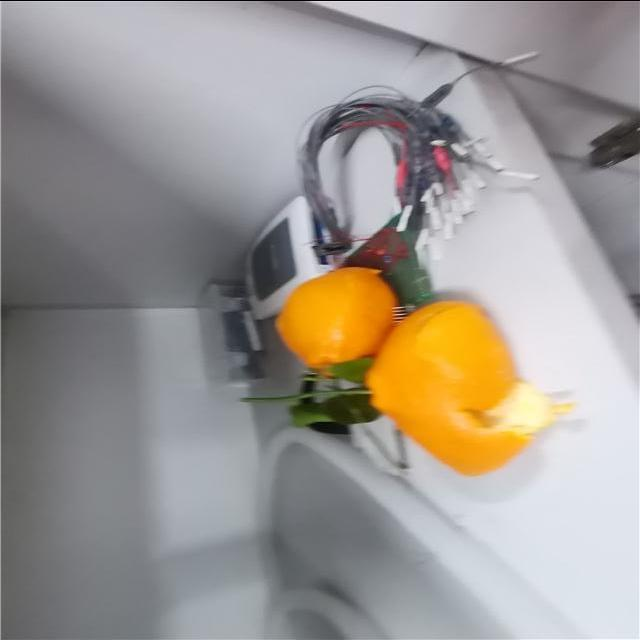orange peel: (363, 301, 566, 477), (266, 272, 405, 382)
